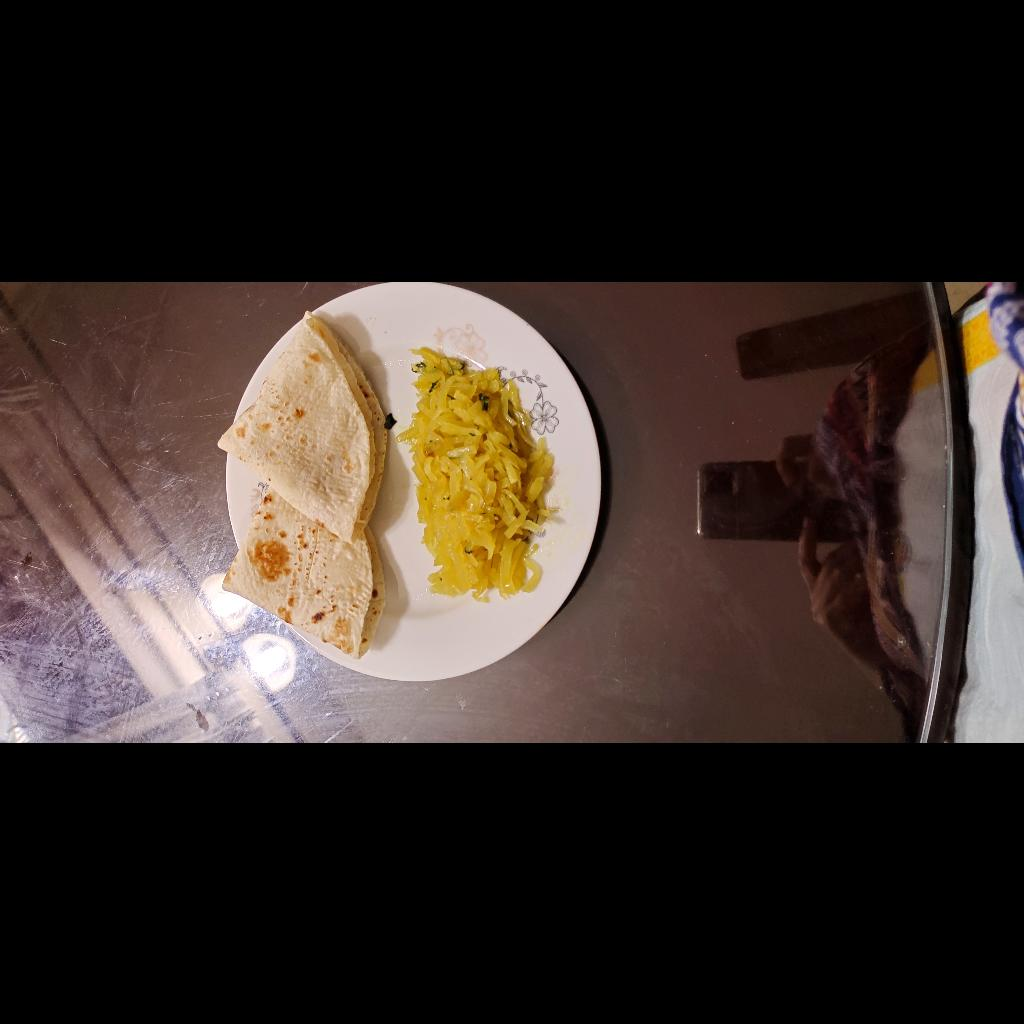ruti: (85, 493, 437, 670)
vaji: (144, 678, 396, 833)
